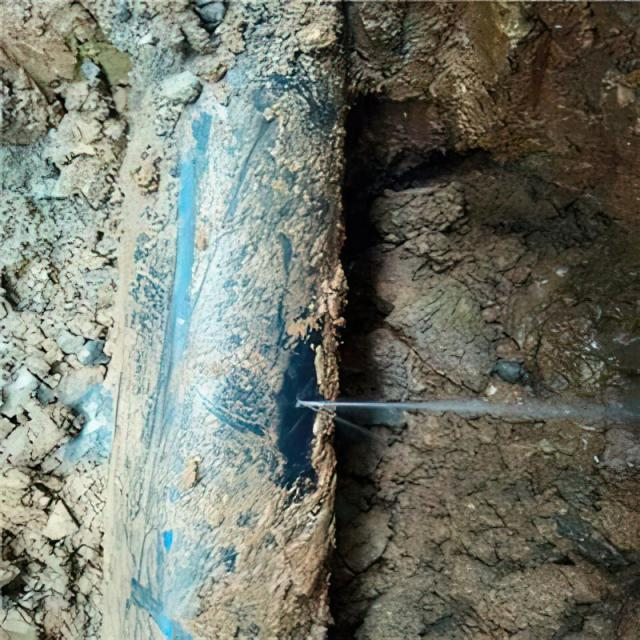leak: (296, 399, 640, 422), (354, 415, 405, 429)
